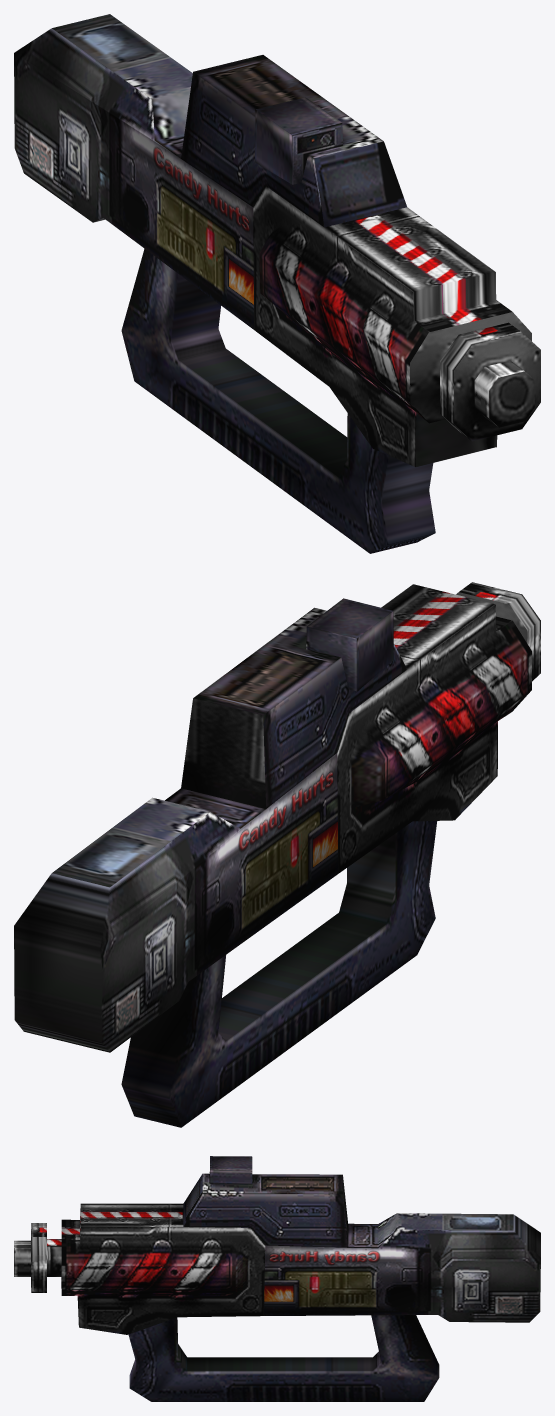
The picture shows the model from 3 angles, top to bottom: view 1: azimuth 30°, elevation 25°; view 2: azimuth 150°, elevation 25°; view 3: azimuth 270°, elevation 25°; orthographic projection. The views are drawn at different scales.
Parts seen in each view (by area): view 1: Prometheus; view 2: Prometheus; view 3: Prometheus.
Part boxes in pixels (x1,y1,x2,y2): Prometheus: (14,14,540,553); Prometheus: (14,582,540,1127); Prometheus: (14,1156,540,1401).
Size of the model in its own units: 5.14 by 15.54 by 32.99.
1 material, 1 textured.
